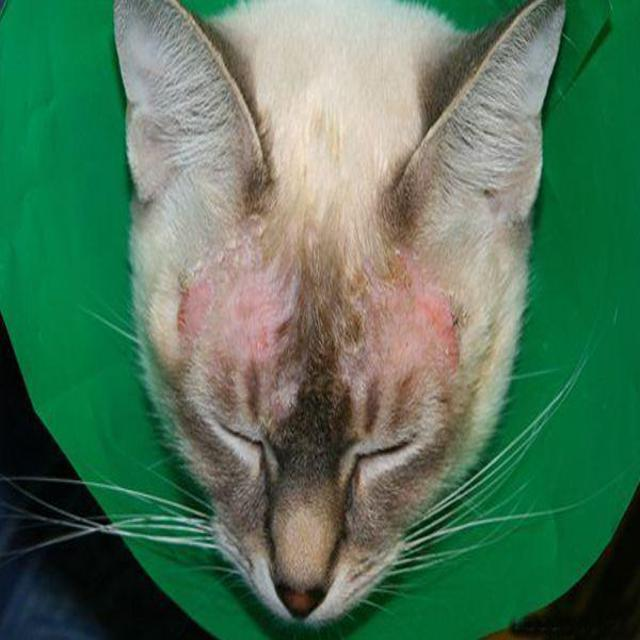ringworm: (177, 260, 286, 364), (367, 284, 465, 382)
